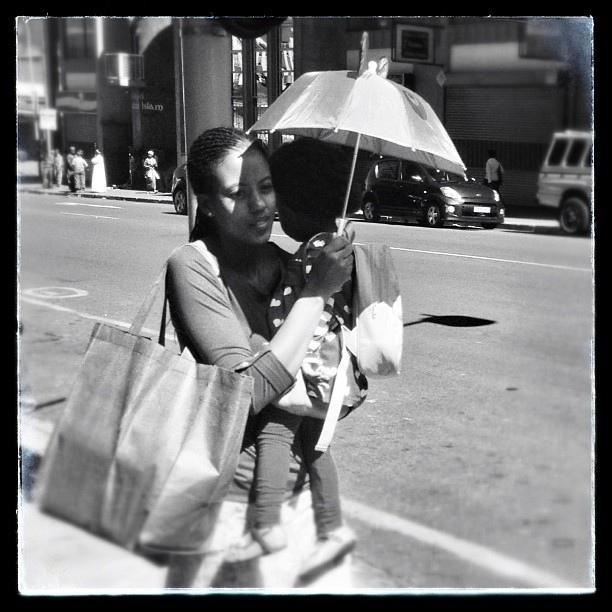car: (362, 160, 507, 230), (536, 130, 588, 242), (171, 162, 186, 214)
truck: (537, 133, 592, 236)
